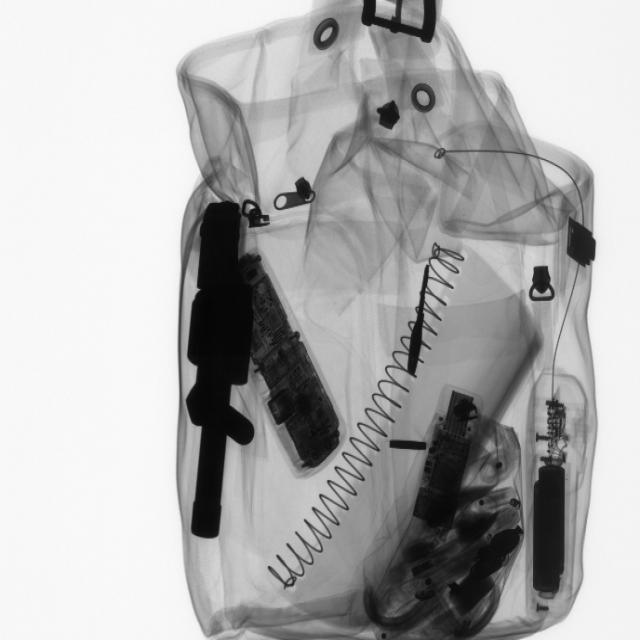GUN: (173, 197, 257, 550)
